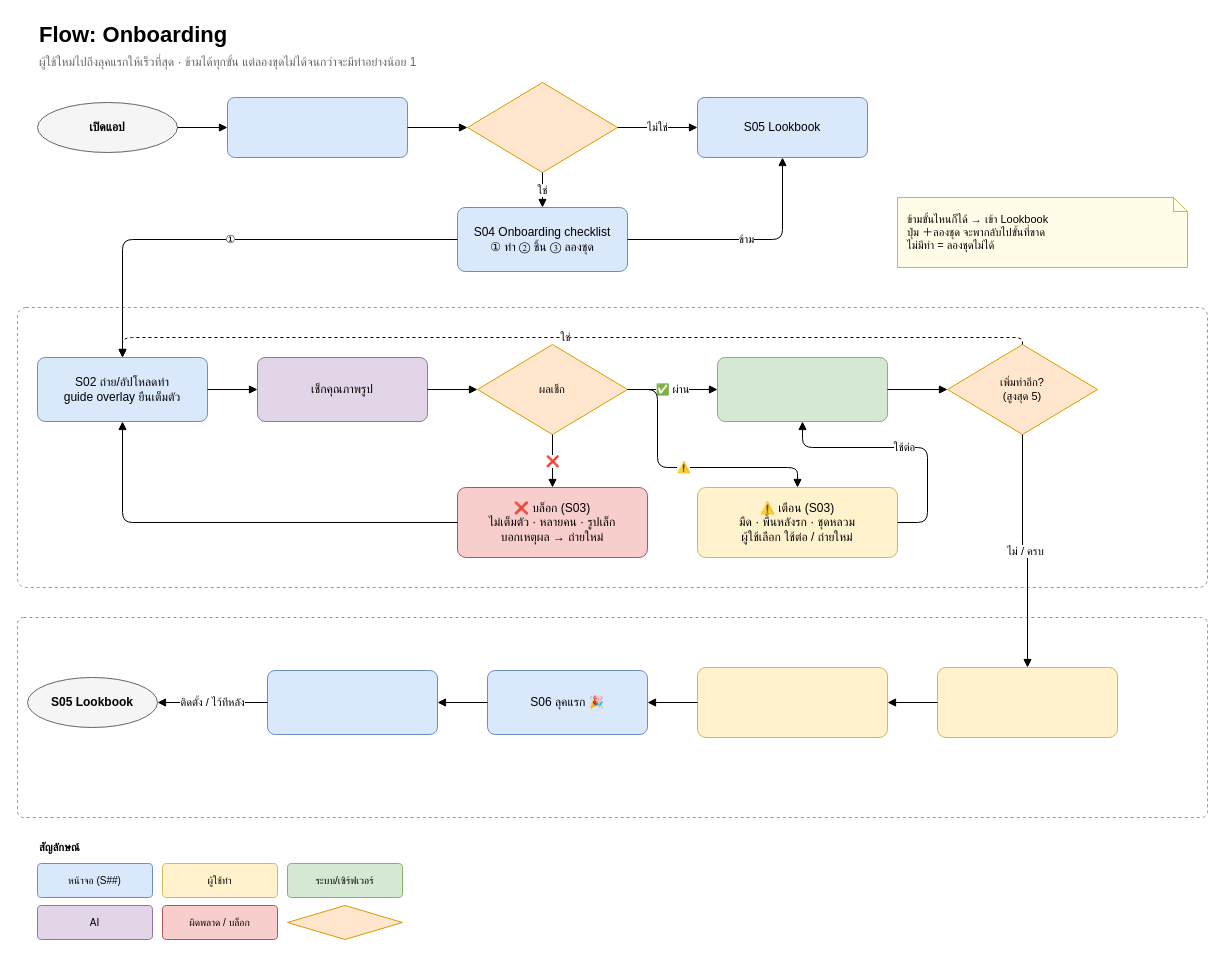
The diagram is 1225 pixels wide and 957 high, and some of its shapes have lost their labels. Here are the shapes that lost their labels. From the top down, the box of each, then its label:
(226, 96, 408, 158): S01 เข้าสู่ระบบ Google · magic link
(466, 82, 618, 172): บัญชีใหม่?
(716, 356, 888, 422): บันทึกท่า (private storage 🔒)
(16, 306, 1208, 588): ① สร้าง twin
(266, 670, 438, 734): S17 ชวนติดตั้ง PWA เปิดแจ้งเตือน
(16, 616, 1208, 818): ② ชิ้น → ③ ลองชุดแรก
(696, 666, 888, 738): ③ ลองชุดแรก Builder เติมชิ้นให้อัตโนมัติ (ดู Flow: ลองชุด)
(936, 666, 1118, 738): ② เพิ่มชิ้น 2 ชิ้น เสื้อ 1 · ท่อนล่าง 1 (ดู Flow: เพิ่มชิ้น)
(286, 904, 402, 940): ตัดสินใจ
